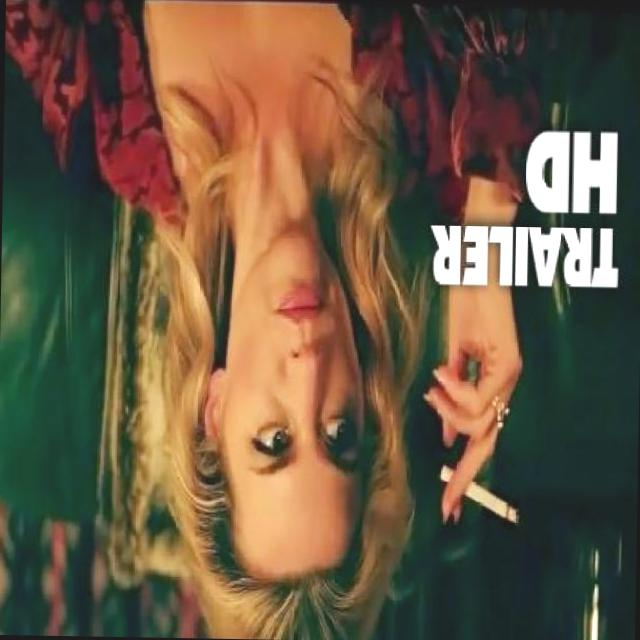smoke: (437, 461, 520, 528)
